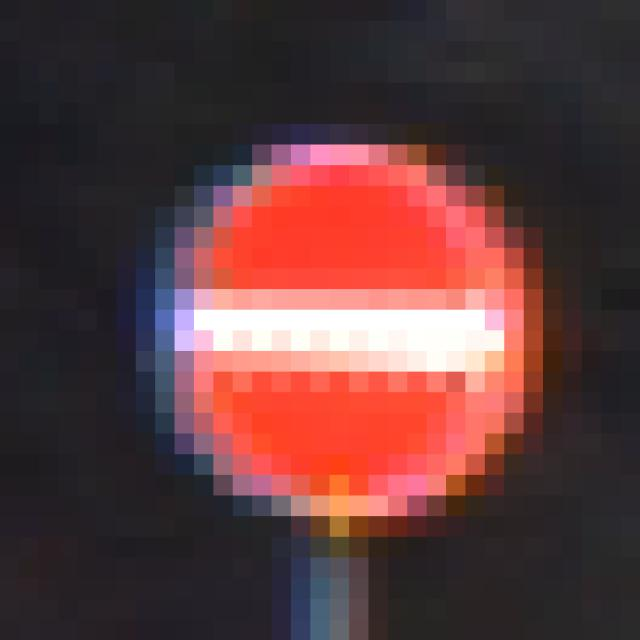No Entry: (117, 104, 544, 538)
